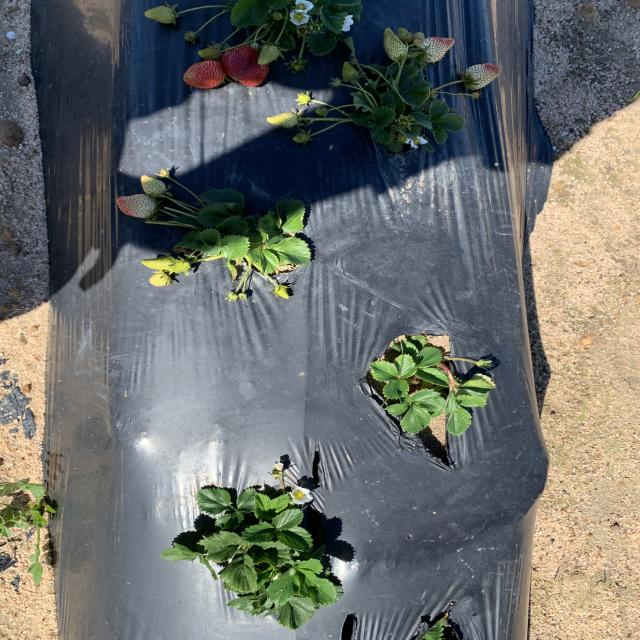unripe: (220, 44, 272, 87), (181, 60, 225, 88)
